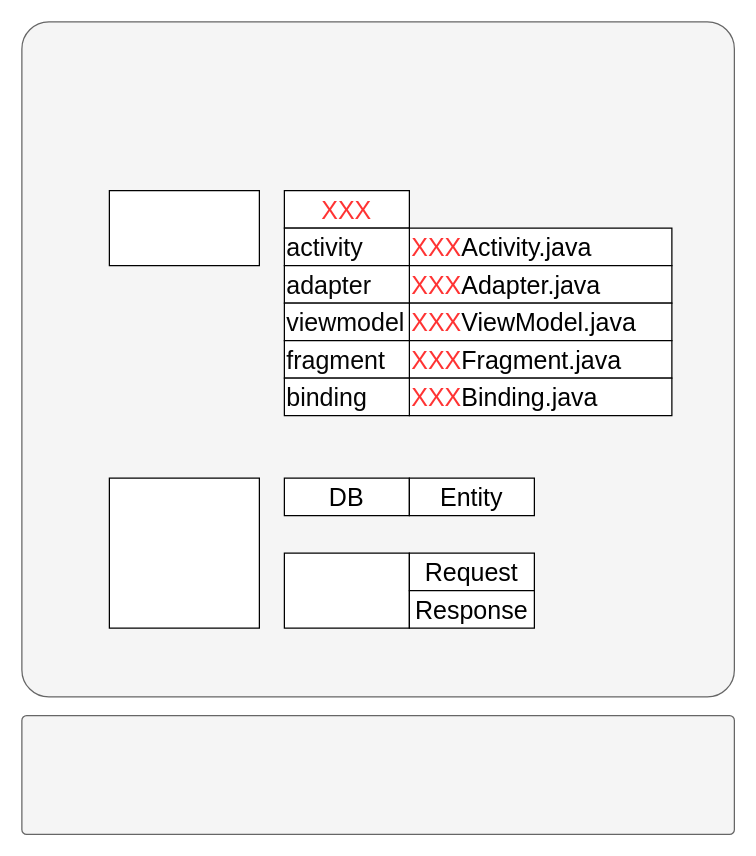
Image size: 756x856. Some labels were removed from this diagram. The centre of each missing label's shape, as x and y in pixels:
Base: the point at 377,774
Business: the point at 183,227
Net: the point at 346,590
Repository: the point at 183,552
